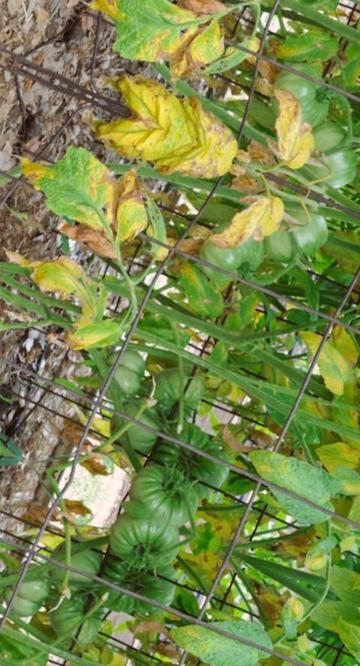Tomato Early blight leaf: (0, 127, 163, 267), (0, 233, 141, 377), (96, 106, 236, 200), (192, 176, 292, 274), (283, 327, 360, 399), (309, 431, 360, 484)
